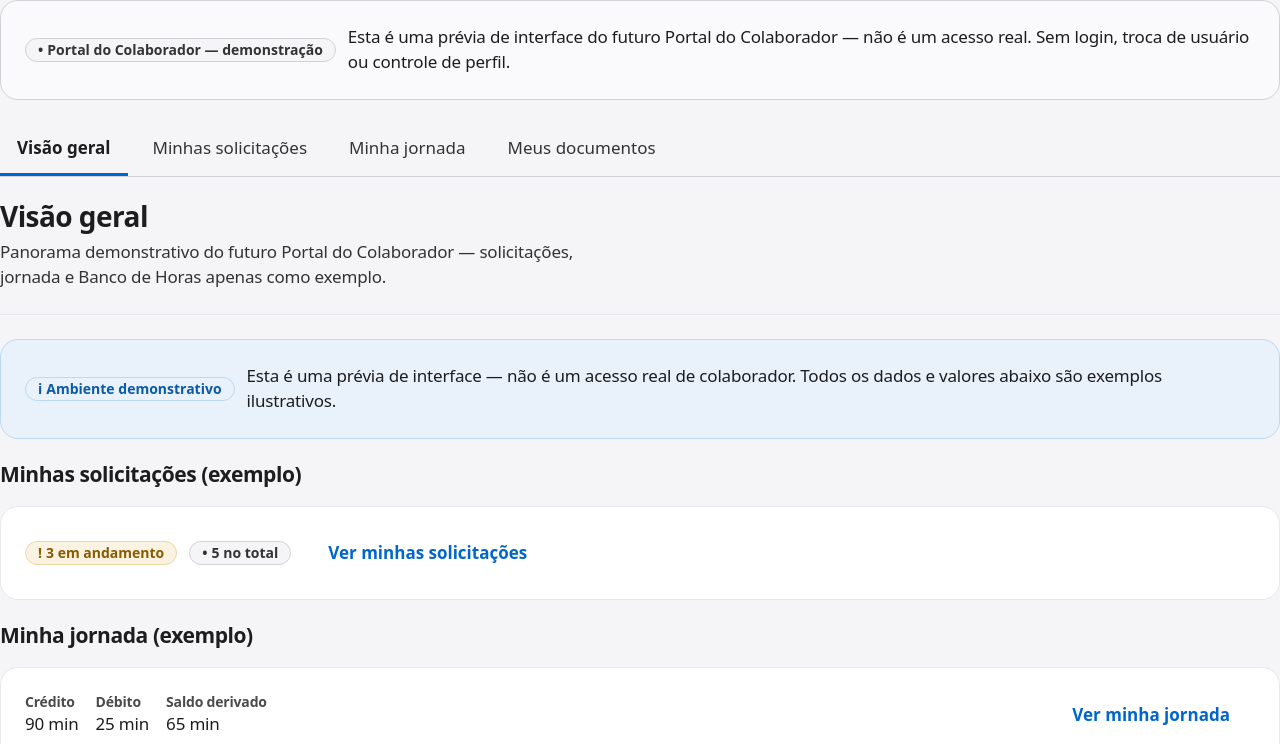
Test: PortalColaboradorScreen — abas locais (T067) › troca para cada aba, só por estado local, mantendo h1 único
Step 1. Click the tab "Minhas solicitações" → (230, 150), box x1=136 y1=124 x2=324 y2=176
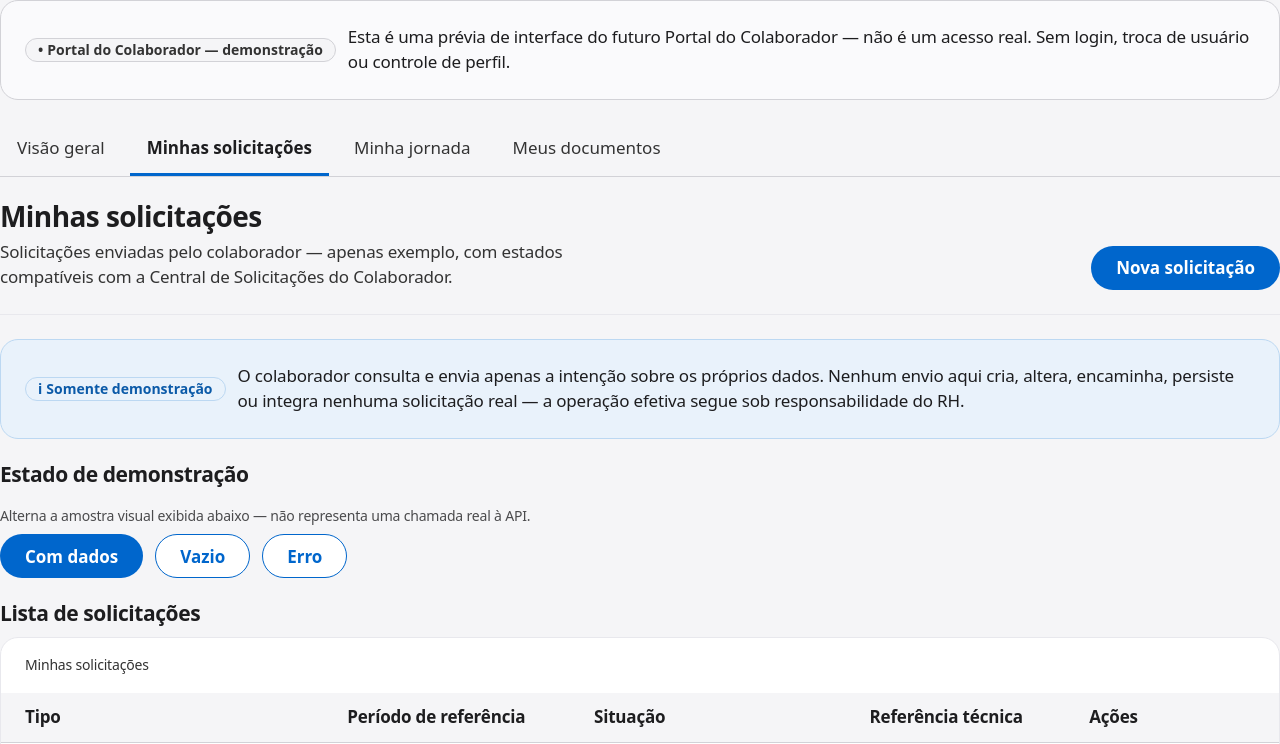
Expected: the heading "Minhas solicitações" is shown, x1=0 y1=197 x2=262 y2=235
Step 2. Click the tab "Minha jornada" → (412, 150), box x1=337 y1=124 x2=488 y2=176
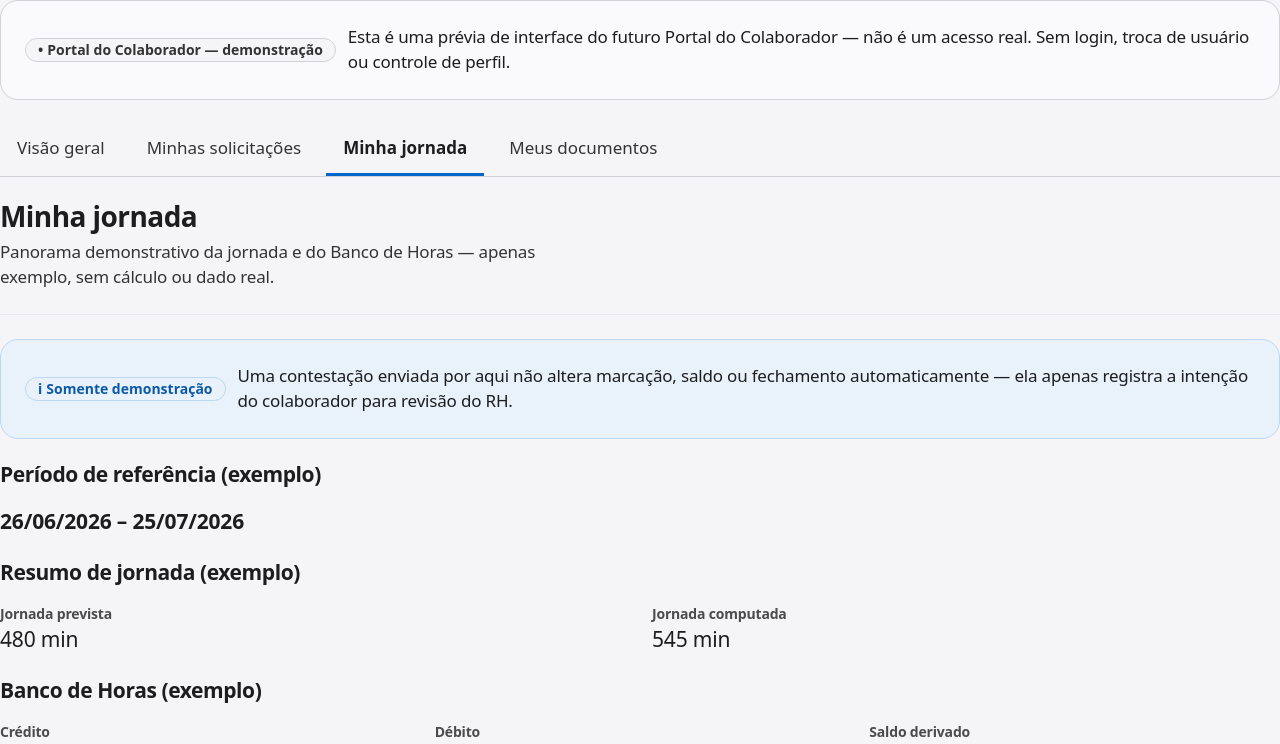
Expected: the heading "Minha jornada" is shown, x1=0 y1=197 x2=197 y2=235
Step 3. Click the tab "Meus documentos" → (583, 150), box x1=492 y1=124 x2=674 y2=176
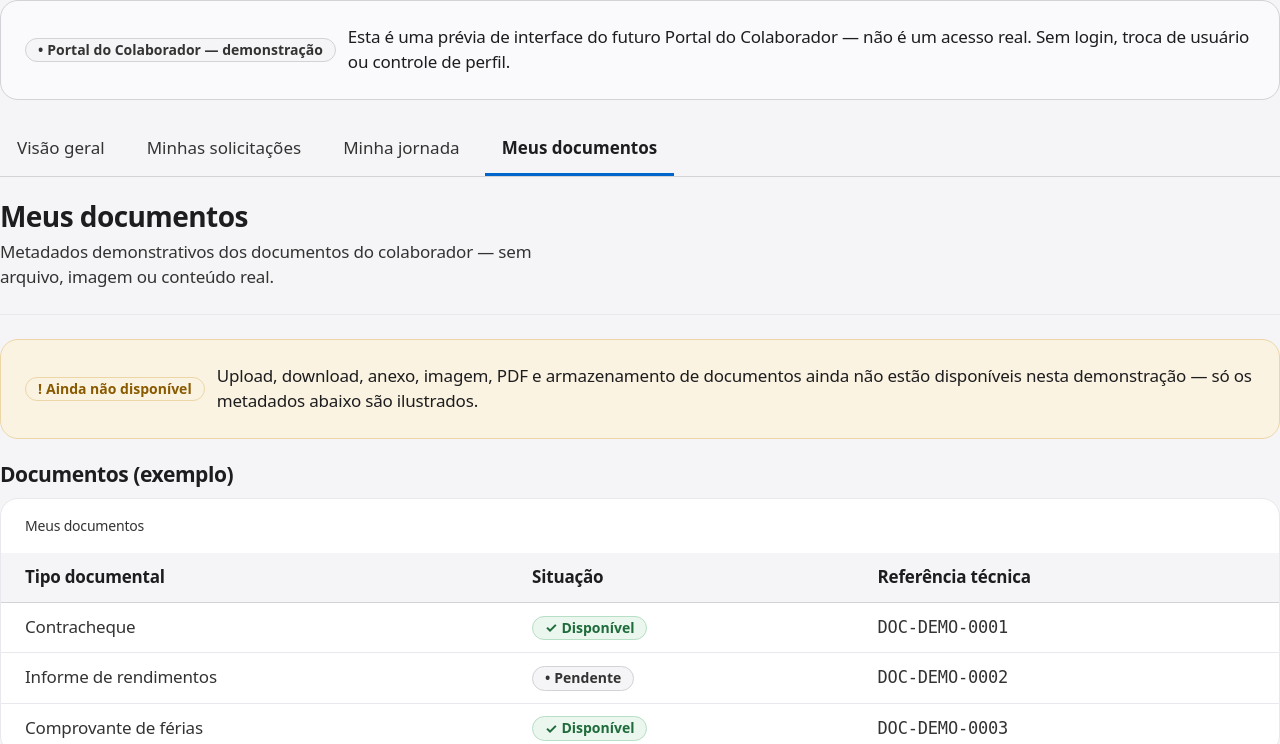
Expected: the heading "Meus documentos" is shown, x1=0 y1=197 x2=248 y2=235
Step 4. Click the tab "Visão geral" → (61, 150), box x1=0 y1=124 x2=122 y2=176
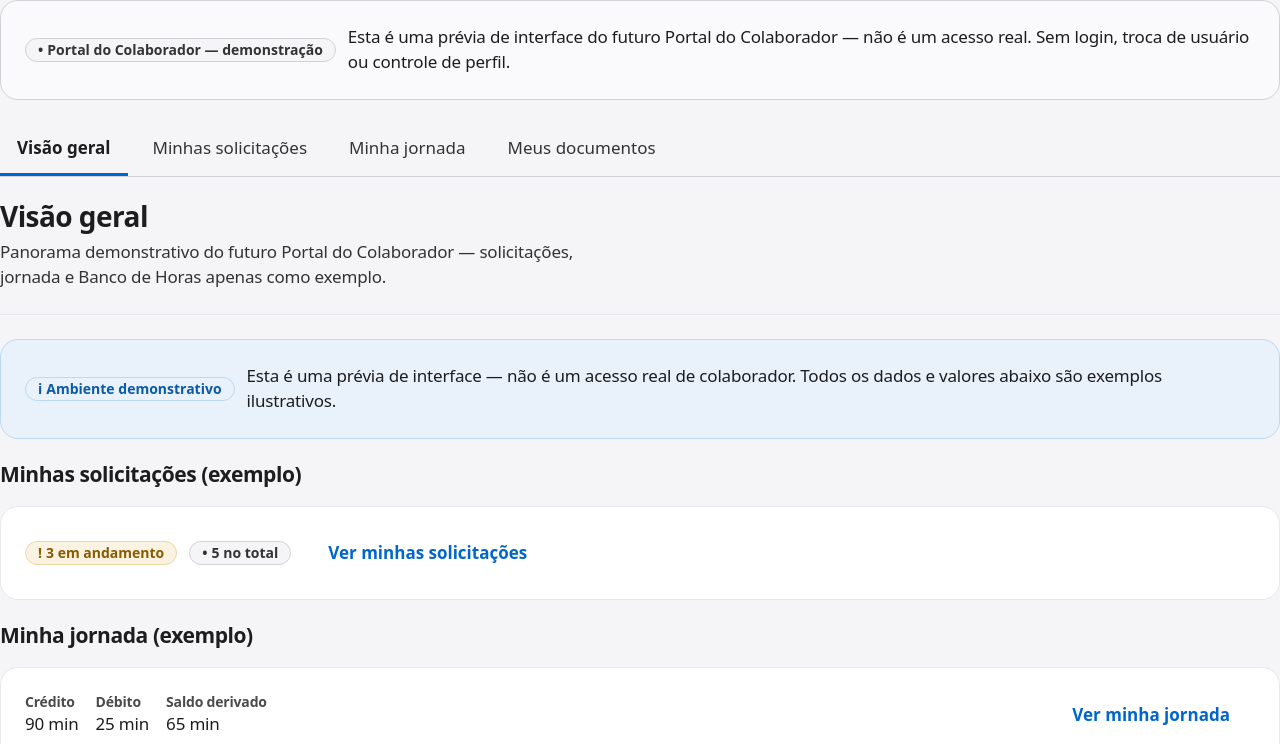
Expected: the heading "Visão geral" is shown, x1=0 y1=197 x2=148 y2=235
